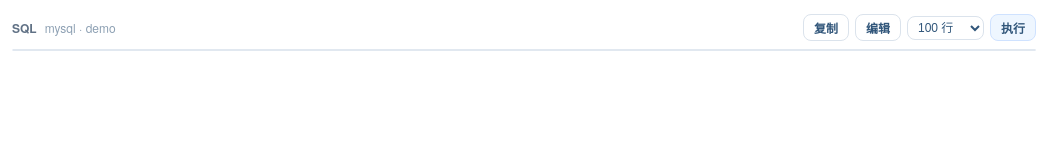
Scenario: SqlCodePanel › copies the current sql
This screenshot has width=1048, height=160.
Click the button "复制".
click(826, 28)  # box [803, 14, 849, 41]
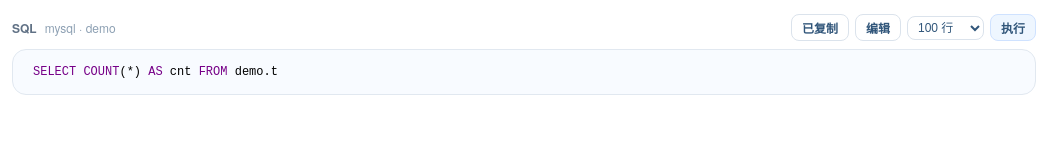
Expected: the button "已复制" is shown, [791, 14, 849, 41]
